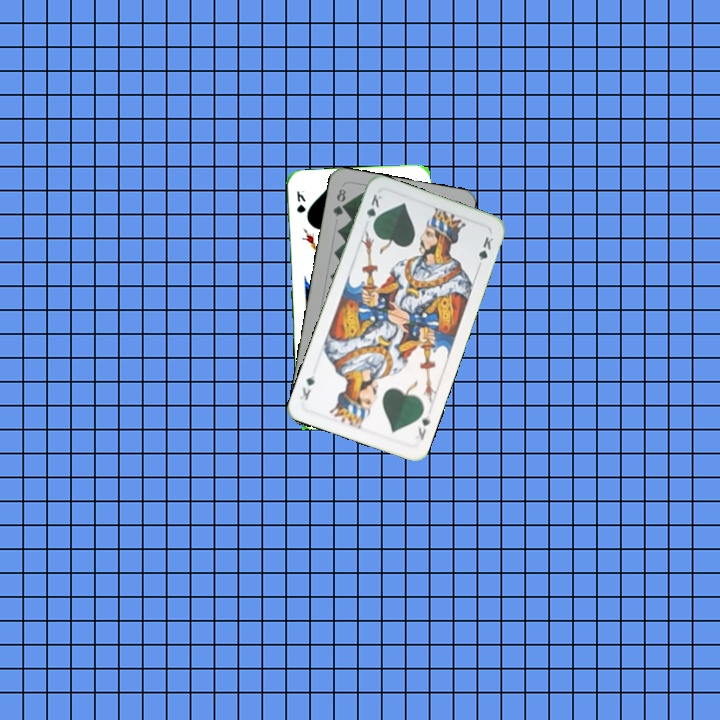G8: (329, 184, 348, 219)
GK: (362, 190, 384, 230), (413, 407, 433, 442), (293, 187, 308, 215)
